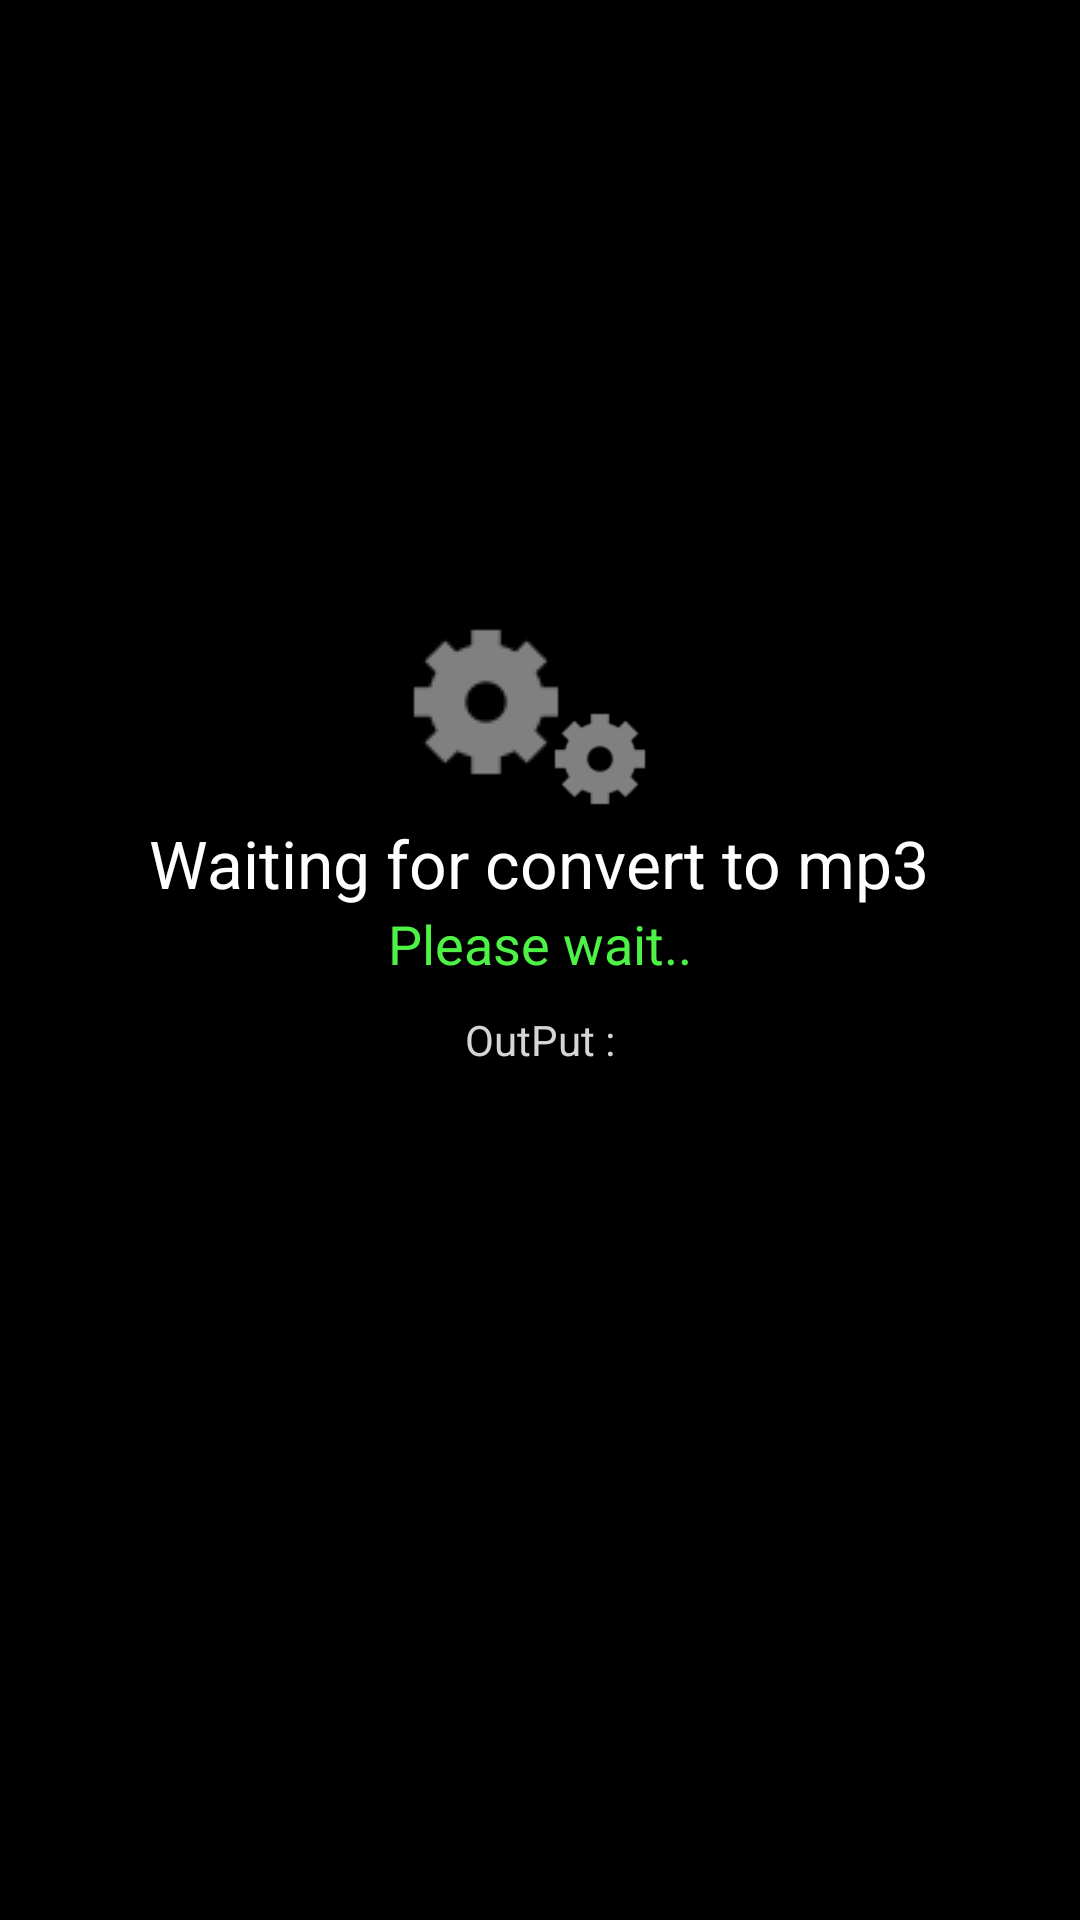

Icons on this 1080*1920 Android screen, each with its box as Rect(x1, y1, x2, y2):
gear: Rect(413, 629, 559, 775), Rect(554, 713, 646, 805)
